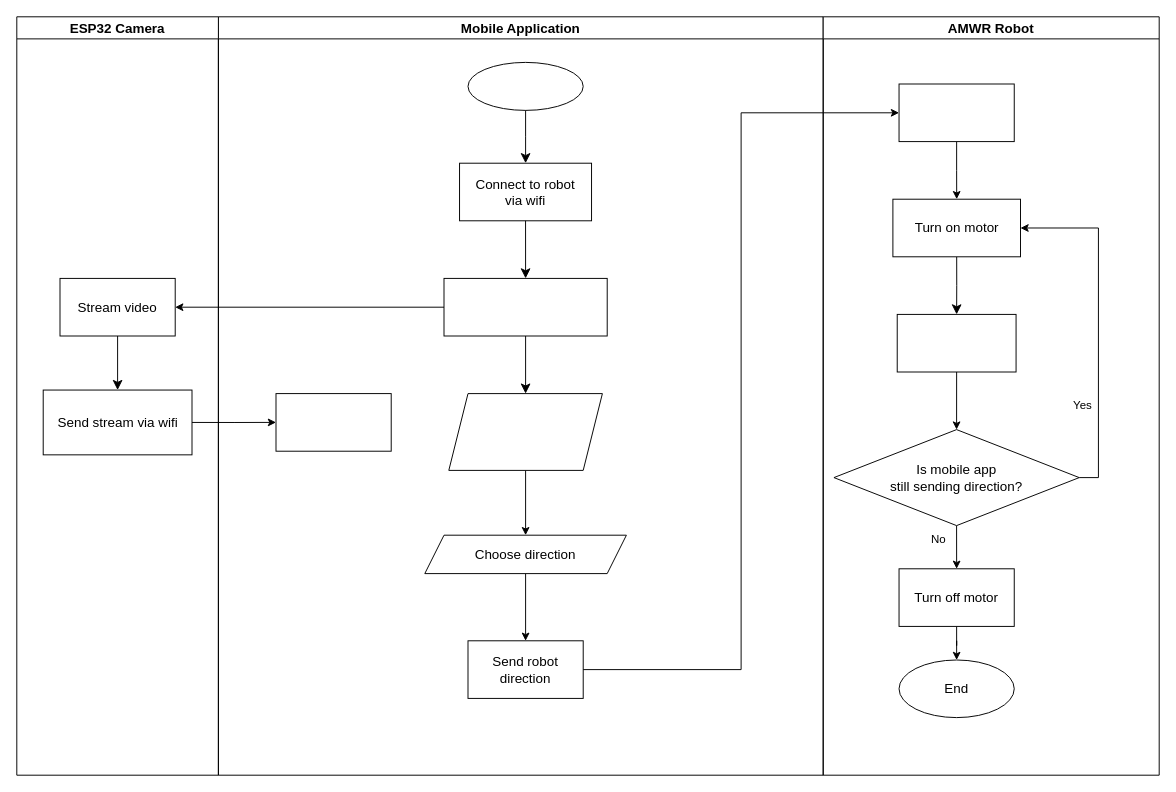
This 1176x792 diagram has some shape labels left out. Here are the shapes that lost their labels. From the top down, the box of each, then its label:
(467, 61, 583, 110): Start
(898, 83, 1014, 142): Arduino receive direction
(443, 277, 607, 336): Connect to Camera via wifi
(896, 313, 1016, 372): Move to same direction
(275, 393, 391, 451): Display camera stream
(448, 393, 602, 470): Observe robot via camera
